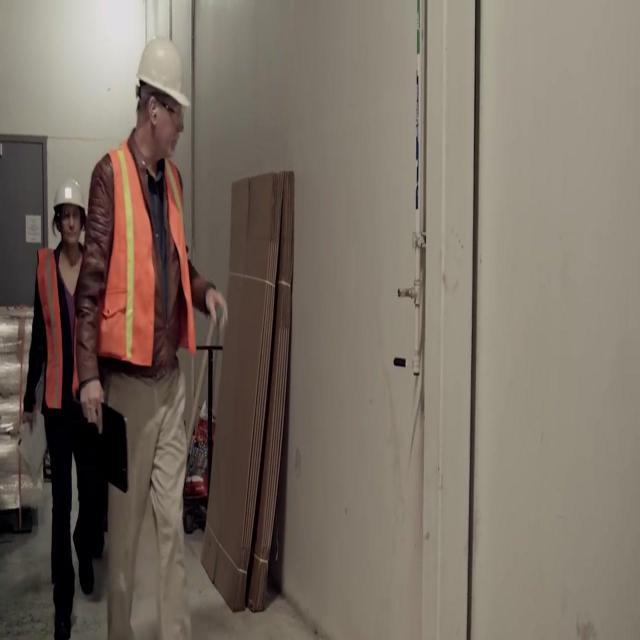Reflective-Jacket: (80, 140, 202, 396), (22, 239, 92, 433)
Safety-Helmet: (126, 25, 196, 123), (46, 166, 90, 227)
